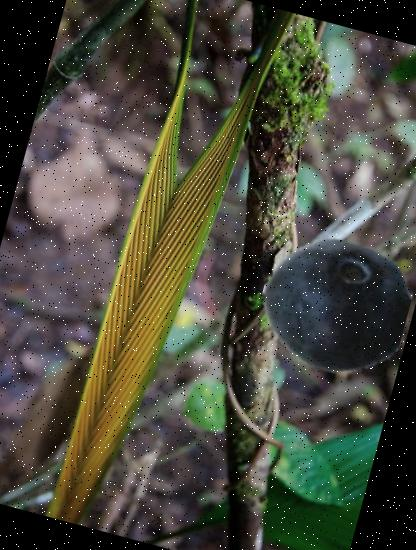Blueberry: (245, 216, 416, 395)
